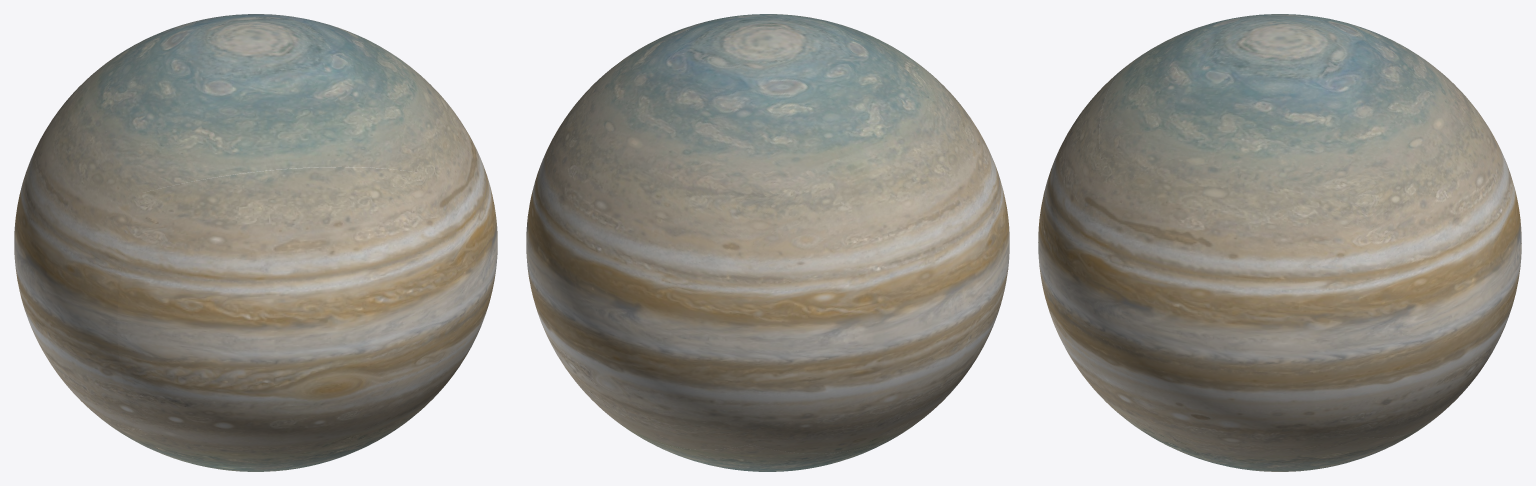
Rendered from jupiter.glb.
3 views of the same model, side by side, from view 1: azimuth 30°, elevation 25°; view 2: azimuth 150°, elevation 25°; view 3: azimuth 270°, elevation 25° (orthographic).
Parts seen in each view (by area): view 1: Body; view 2: Body; view 3: Body.
Part boxes in pixels (x1,y1,x2,y2): Body: (14, 14, 497, 471); Body: (526, 14, 1009, 471); Body: (1038, 14, 1521, 471).
Bounding box in the file's own units: 2 × 1.87 × 2.
Materials: 1 (1 with a texture image).
